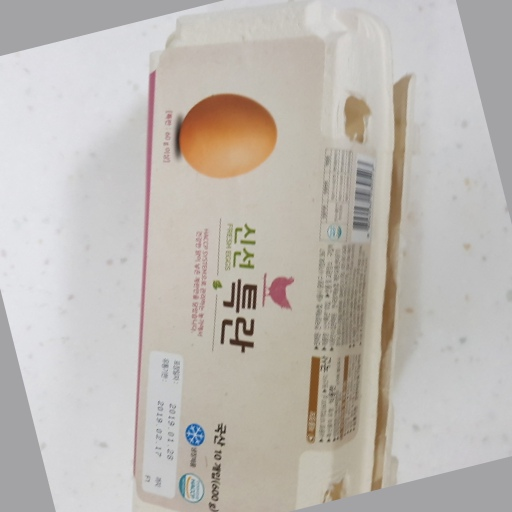Paper_0: (132, 5, 400, 512)
